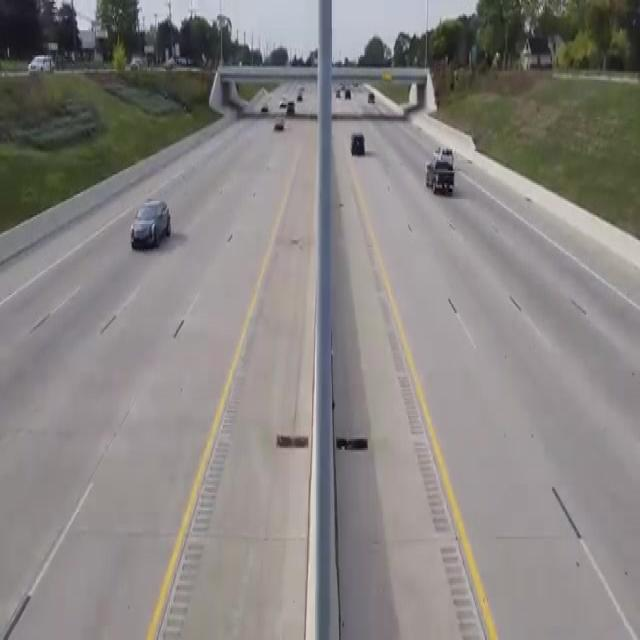car: (121, 192, 177, 256), (339, 128, 378, 160), (429, 142, 462, 165), (268, 111, 289, 139)
truck: (422, 161, 458, 202)
